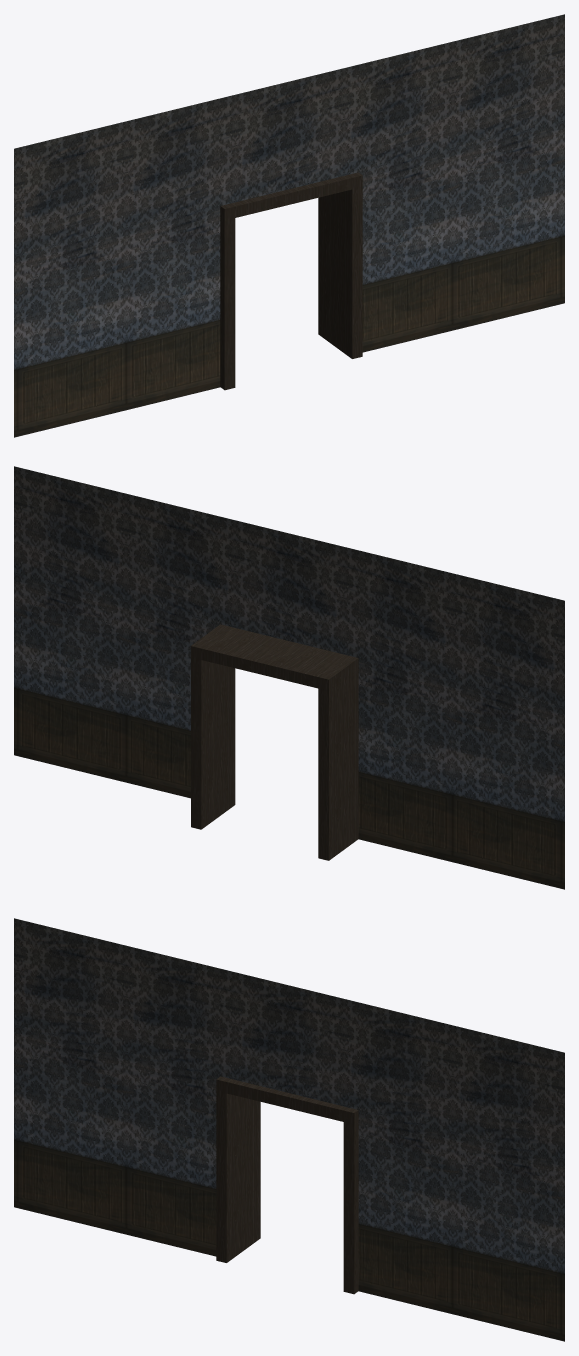
Rendered from Mansion_wall_door.FBX.
3 renders of one model, top to bottom at view 1: azimuth 30°, elevation 25°; view 2: azimuth 150°, elevation 25°; view 3: azimuth 330°, elevation 25°, orthographic.
Parts seen in each view (by area): view 1: wand_, tuerrahmen; view 2: wand_, tuerrahmen; view 3: wand_, tuerrahmen.
Part boxes in pixels (<box>): wand_: <box>14,14,564,437</box>; tuerrahmen: <box>220,172,362,390</box>; wand_: <box>14,466,564,889</box>; tuerrahmen: <box>191,624,358,860</box>; wand_: <box>14,918,564,1341</box>; tuerrahmen: <box>216,1076,358,1294</box>.
Bounding box in the file's own units: 798 × 400 × 85.
